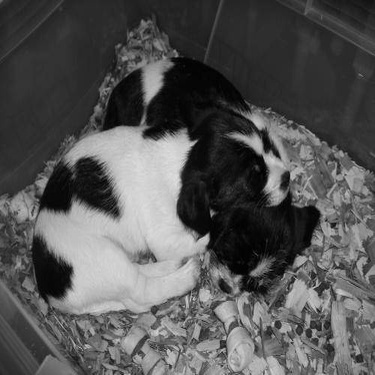dog: (9, 93, 295, 320), (90, 47, 326, 304)
